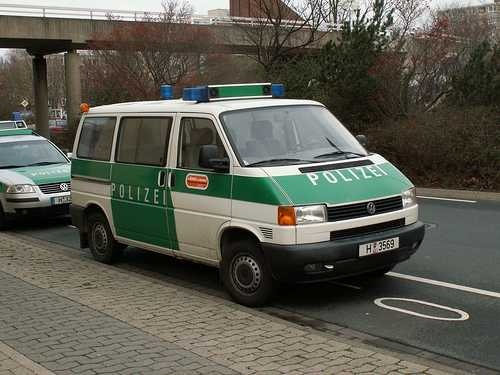Police Car: (0, 108, 91, 228)
Police Van: (70, 91, 418, 324)
